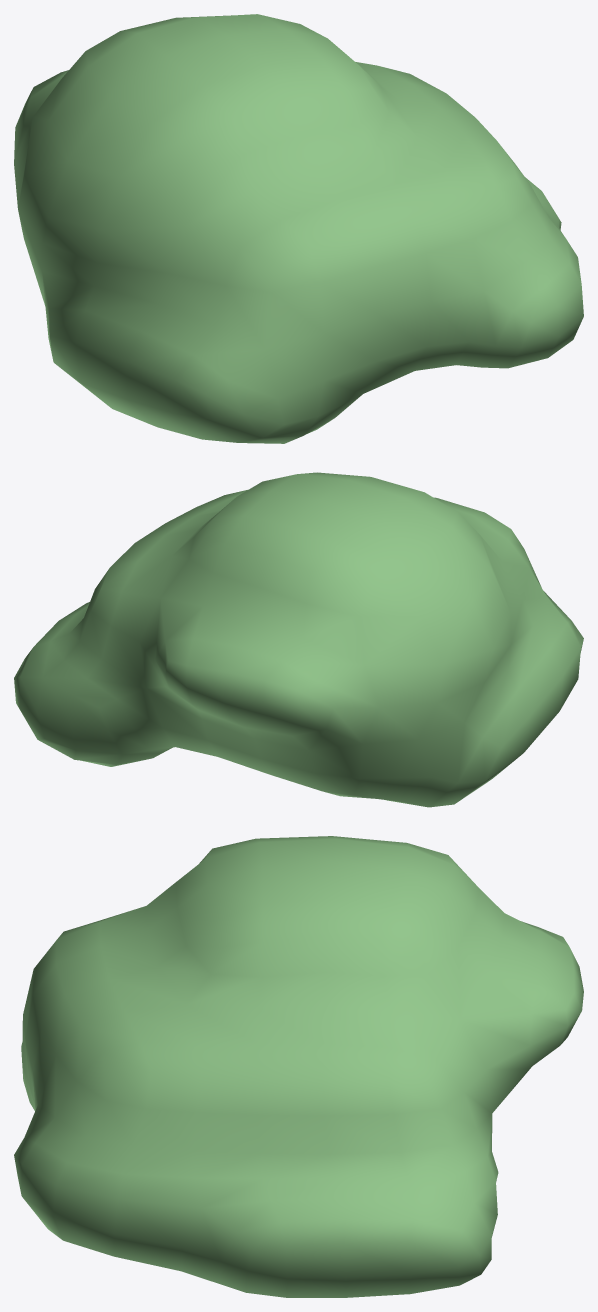
Rendered from Tree2_low.fbx.
3 renders of one model, top to bottom at view 1: azimuth 30°, elevation 25°; view 2: azimuth 150°, elevation 25°; view 3: azimuth 270°, elevation 25°, orthographic. The views are drawn at different scales.
Parts seen in each view (by area): view 1: Tree.002_low; view 2: Tree.002_low; view 3: Tree.002_low.
Part boxes in pixels (bbox=[...]): Tree.002_low: bbox=[14, 14, 583, 443]; Tree.002_low: bbox=[14, 472, 583, 807]; Tree.002_low: bbox=[14, 836, 583, 1297].
Bounding box in the file's own units: 100 × 62.08 × 97.06.
